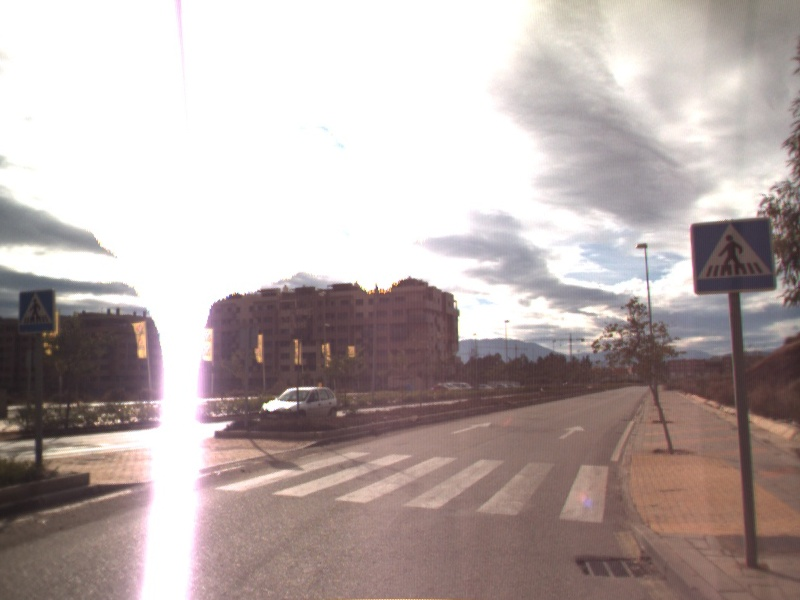STRAIGHT: (449, 420, 495, 436), (557, 423, 587, 441)
